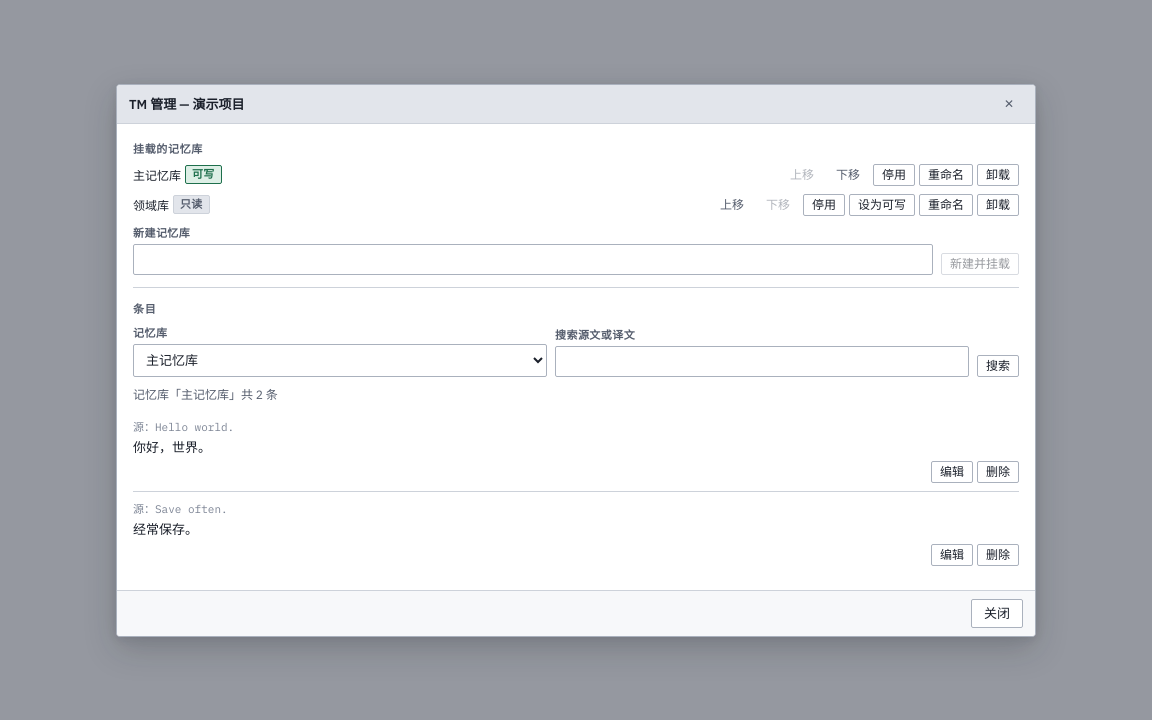
it: TmManageDialog › promotes a memory to writable by demoting the current one first
Expected: the text "可写" is shown, [185,165,222,184]
Click the button with aria-label "设为可写记忆库 领域库".
click(882, 204)  # box [849,194,915,216]
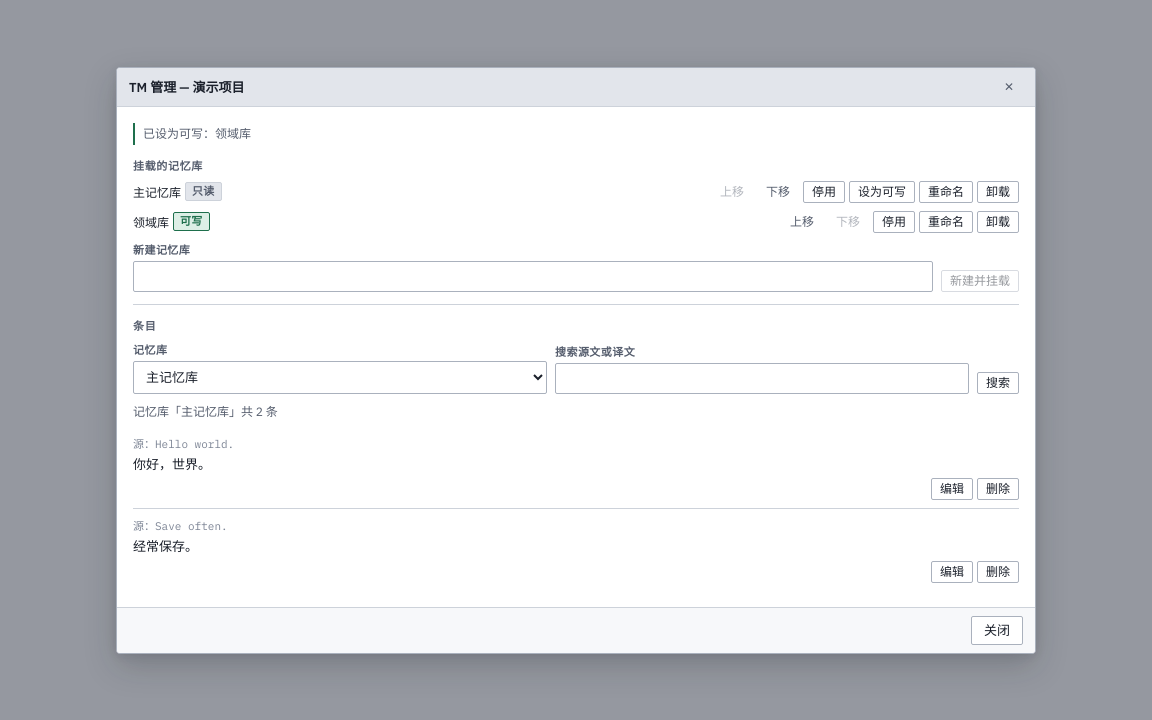
Expected: the text "可写" is shown once, [173,212,210,231]
Expected: the message reads "已设为可写：领域库", [143,126,251,140]
Expected: the button with aria-label "设为可写记忆库 主记忆库" is shown, [849,180,915,202]
